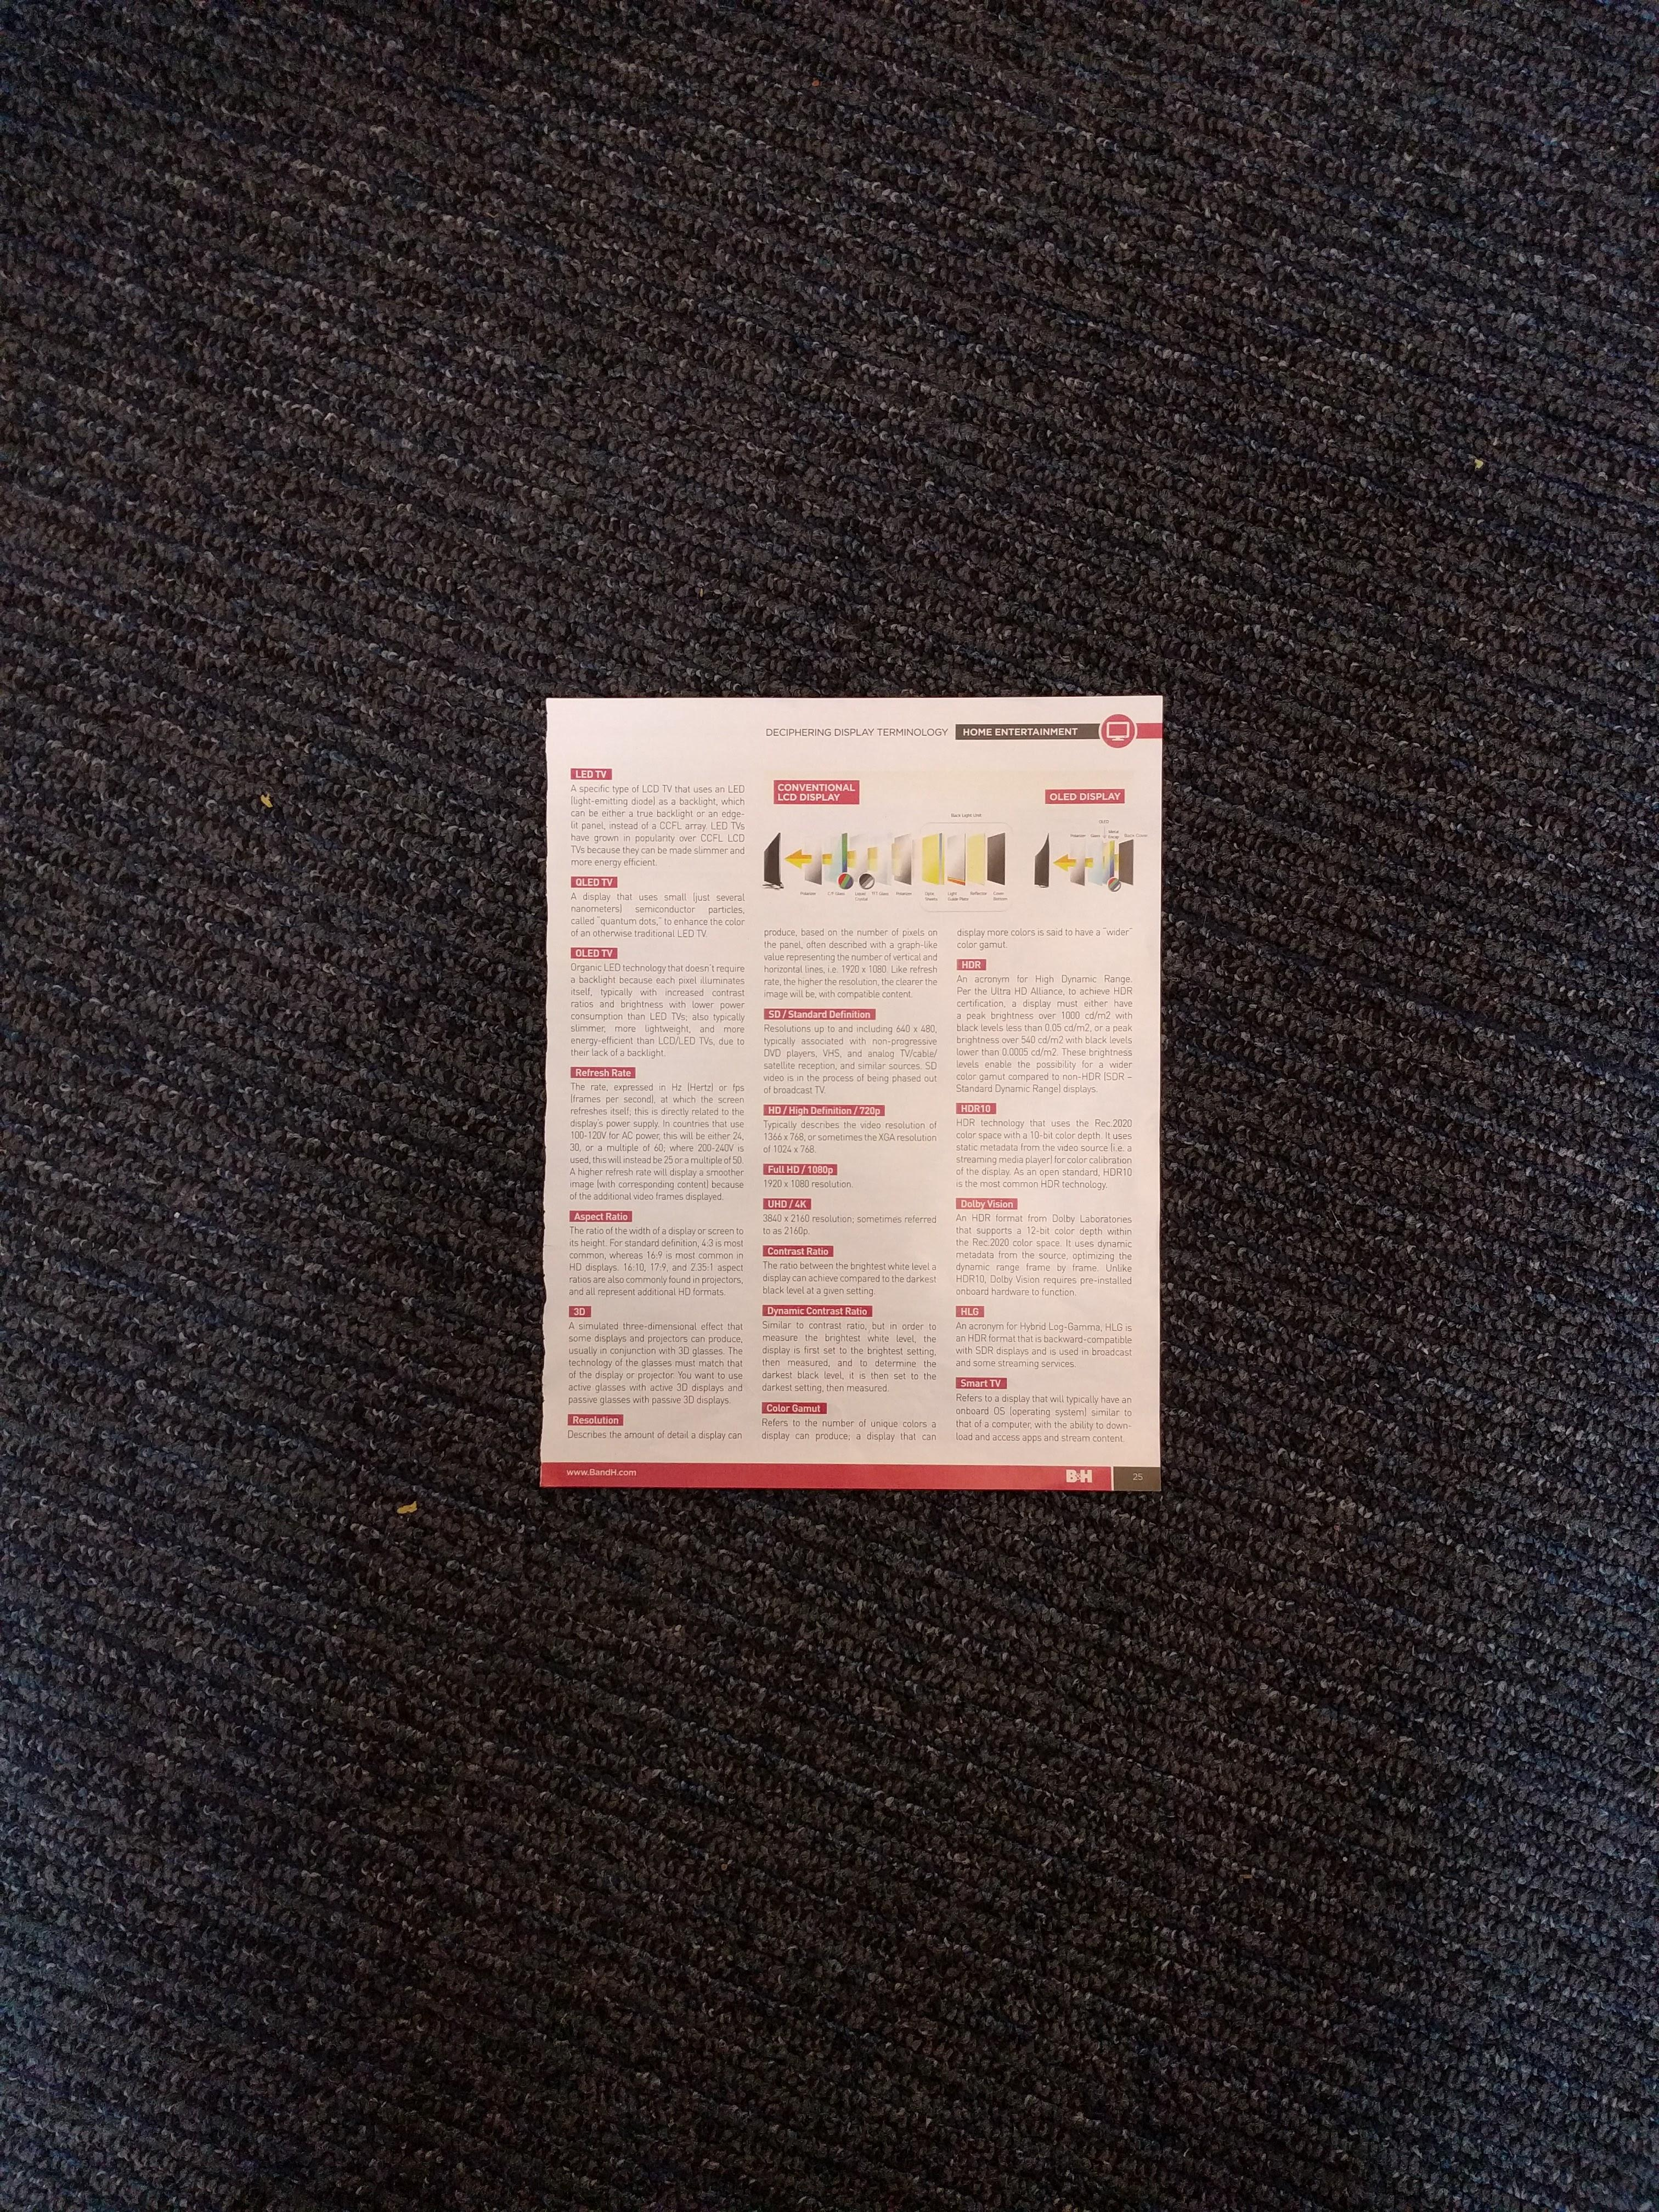paper: (416, 514, 1432, 1679)
